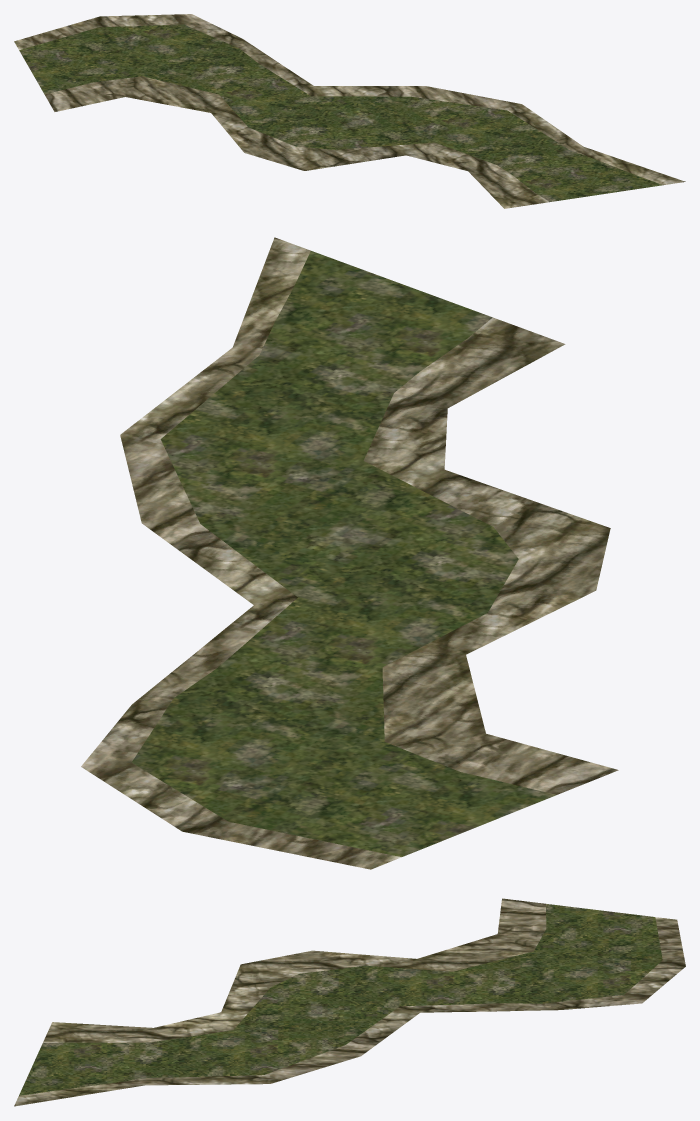
File: CB_NEWPLAYSURFACE_CB_PLAYSURFACE157.fbx
3 renders of one model, top to bottom at view 1: azimuth 30°, elevation 25°; view 2: azimuth 150°, elevation 25°; view 3: azimuth 270°, elevation 25°, orthographic. The views are drawn at different scales.
Visible parts, largest first — view 1: CB_NEWPLAYSURFACE_CB_PLAYSURFACE157; view 2: CB_NEWPLAYSURFACE_CB_PLAYSURFACE157; view 3: CB_NEWPLAYSURFACE_CB_PLAYSURFACE157.
Boxes of the visible parts, <box> form: CB_NEWPLAYSURFACE_CB_PLAYSURFACE157: <box>14,14,685,208</box>; CB_NEWPLAYSURFACE_CB_PLAYSURFACE157: <box>81,237,618,869</box>; CB_NEWPLAYSURFACE_CB_PLAYSURFACE157: <box>14,898,685,1106</box>.
Bounding box in the file's own units: 231666 × 192 × 315617.
2 materials, 2 textured.
